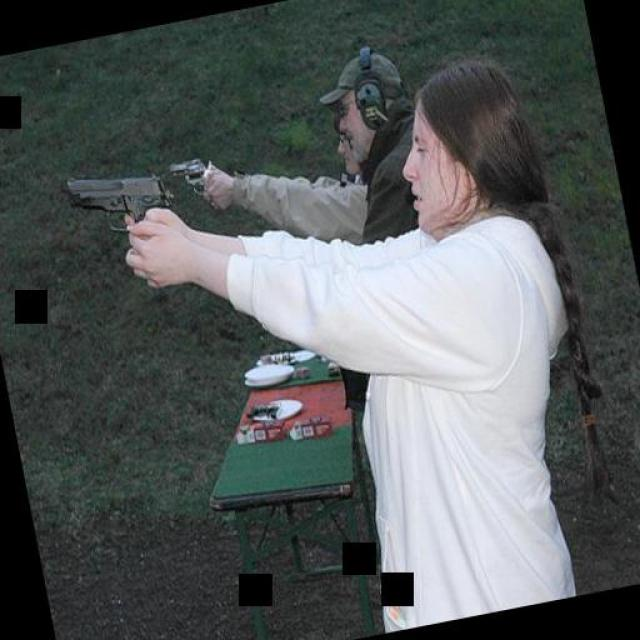gun: (62, 154, 182, 256), (163, 148, 215, 202)
